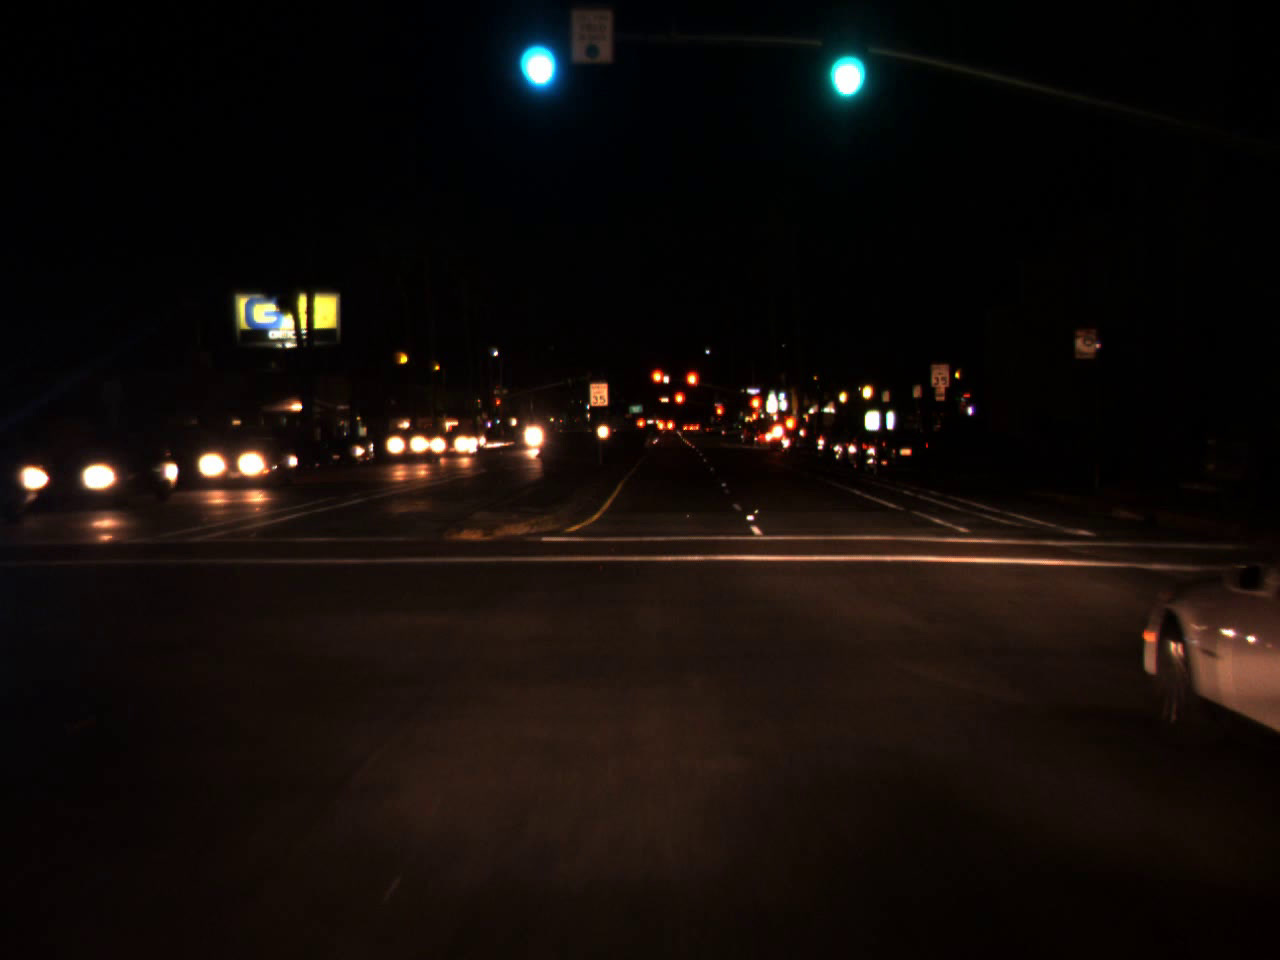go: (821, 20, 866, 107), (516, 17, 559, 95)
stop: (649, 367, 667, 399), (684, 369, 700, 401), (672, 389, 685, 418), (715, 404, 724, 425), (751, 398, 758, 411), (495, 399, 501, 409)
